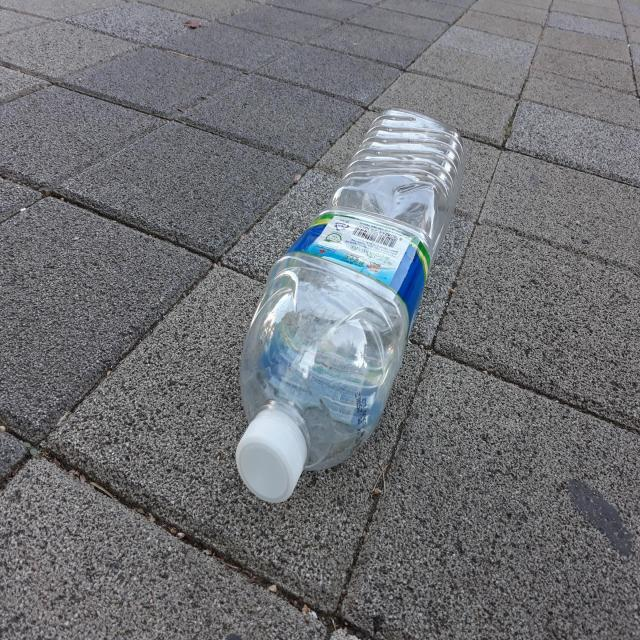plastic: (236, 108, 466, 503)
